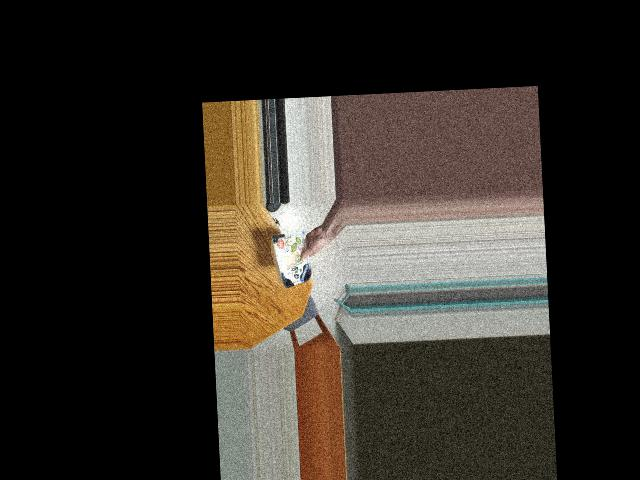cheese: (277, 227, 314, 289)
